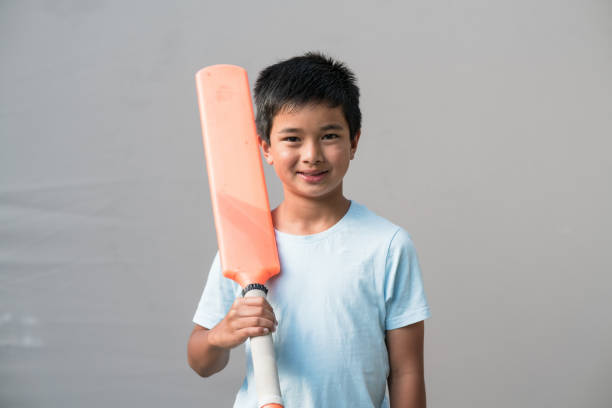bottom left: (232, 56, 257, 86)
bottom right: (179, 63, 211, 89)
top left: (262, 246, 291, 281)
top right: (214, 252, 241, 284)
